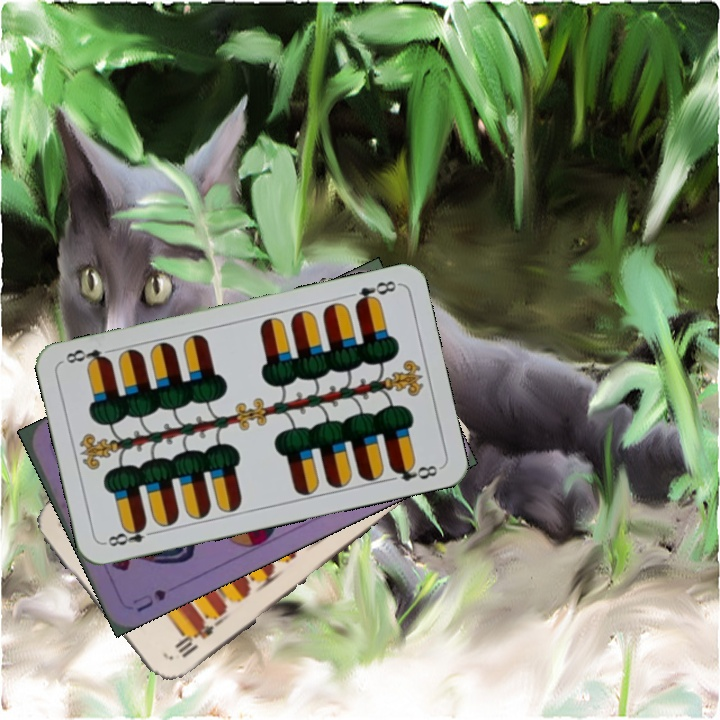E10: (171, 618, 216, 661)
E8: (101, 520, 159, 549), (350, 276, 400, 309)
SU: (128, 585, 169, 615)
